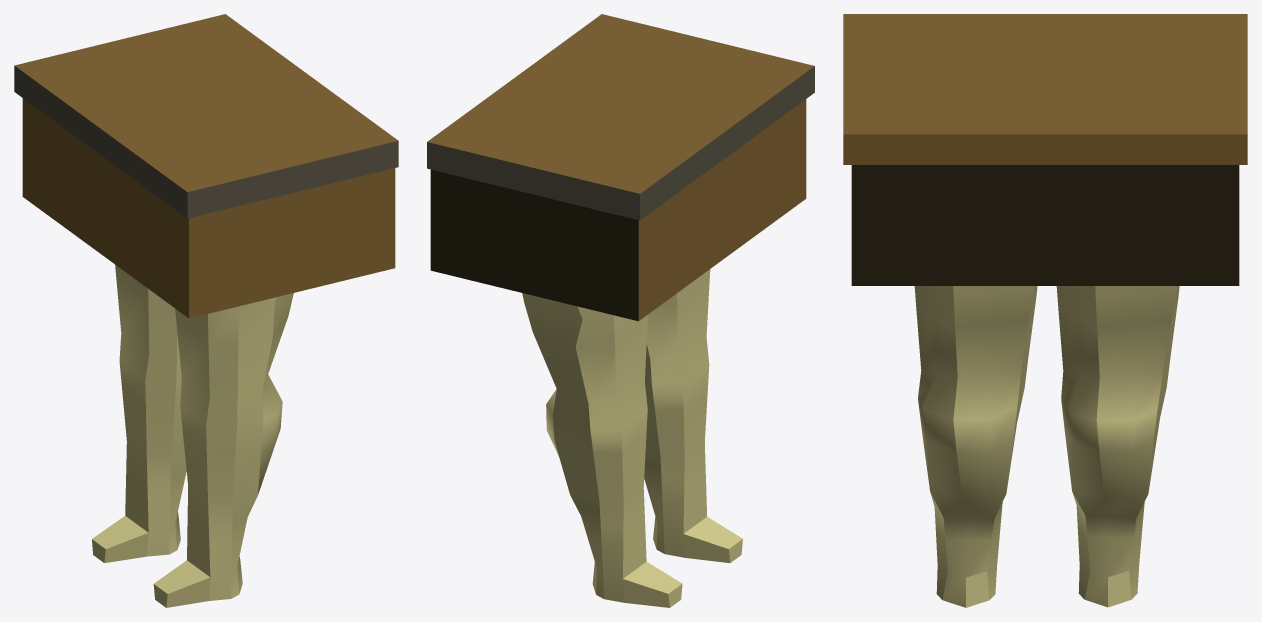
The model's file is BoxyBoi.obj.
The picture shows the model from 3 angles, left to right: view 1: azimuth 30°, elevation 25°; view 2: azimuth 150°, elevation 25°; view 3: azimuth 270°, elevation 25°; orthographic projection. The views are drawn at different scales.
Visible parts, largest first — view 1: pasted__polySurface1 group7; view 2: pasted__polySurface1 group7; view 3: pasted__polySurface1 group7.
Boxes of the visible parts, x1,y1,x2,y2 form: pasted__polySurface1 group7: (14,14,398,607); pasted__polySurface1 group7: (427,14,814,607); pasted__polySurface1 group7: (843,14,1247,607).
Size of the model in its own units: 0.4313 by 0.891 by 0.6131.
